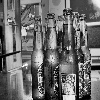beer: (56, 7, 80, 99)
